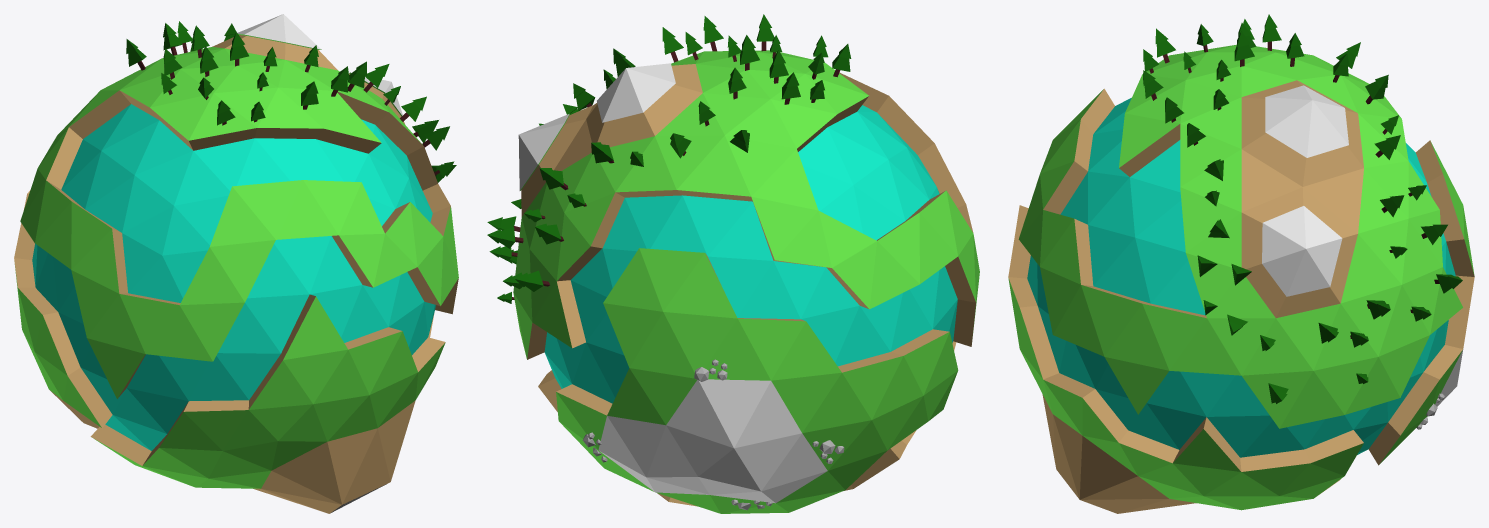
Rendered from planete 1.fbx.
3 views of the same model, side by side, from view 1: azimuth 30°, elevation 25°; view 2: azimuth 150°, elevation 25°; view 3: azimuth 270°, elevation 25° (orthographic). The views are drawn at different scales.
Visible parts, largest first — view 1: Planet 1; view 2: Planet 1; view 3: Planet 1.
Boxes of the visible parts, <box> form: Planet 1: <box>14,14,458,513</box>; Planet 1: <box>487,14,979,513</box>; Planet 1: <box>1008,14,1474,513</box>.
Bounding box in the file's own units: 212 × 221 × 200.
